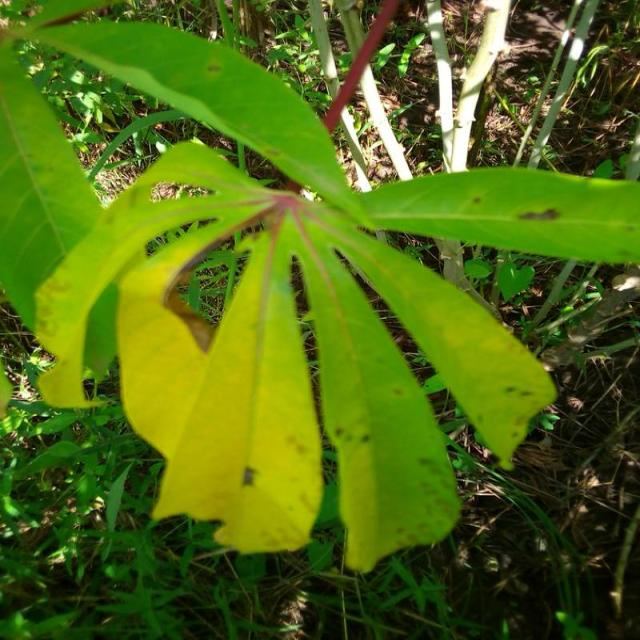cassava leaf: (2, 4, 637, 574)
